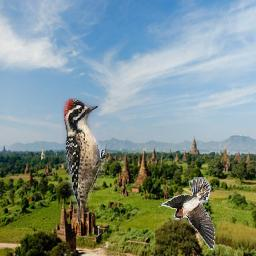Swallow: (159, 178, 216, 251)
Woodpecker: (63, 98, 108, 222)
